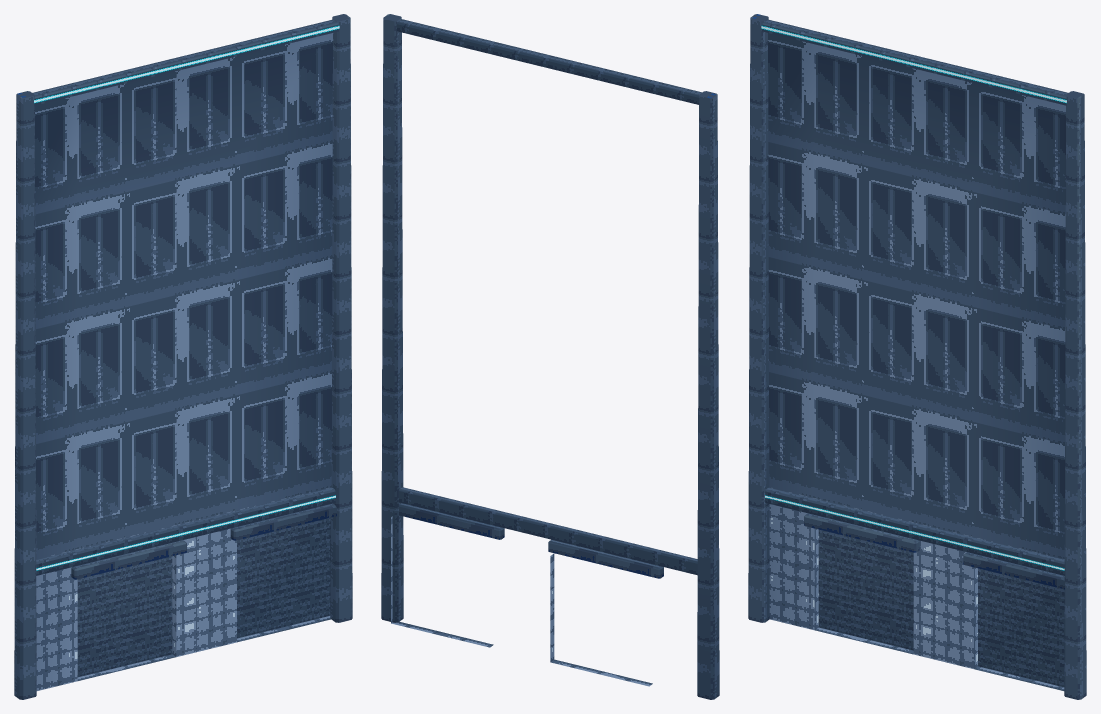
The model's file is cytower.facade__canyon.glb.
The picture shows the model from 3 angles, left to right: view 1: azimuth 30°, elevation 25°; view 2: azimuth 150°, elevation 25°; view 3: azimuth 330°, elevation 25°; orthographic projection.
Visible parts, largest first — view 1: kit_shell_front, kit_trim, kit_card_windows; view 2: kit_trim, kit_shell_front; view 3: kit_shell_front, kit_trim, kit_card_windows.
Boxes of the visible parts, x1,y1,x2,y2 form: kit_shell_front: (35,33,332,690); kit_trim: (14,14,352,699); kit_card_windows: (34,25,339,571); kit_trim: (381,14,719,699); kit_shell_front: (391,516,652,686); kit_shell_front: (768,33,1065,690); kit_trim: (748,14,1086,699); kit_card_windows: (761,25,1066,571).
Size of the model in its own units: 12.12 by 20.9 by 0.6.
9 materials, 9 textured.
